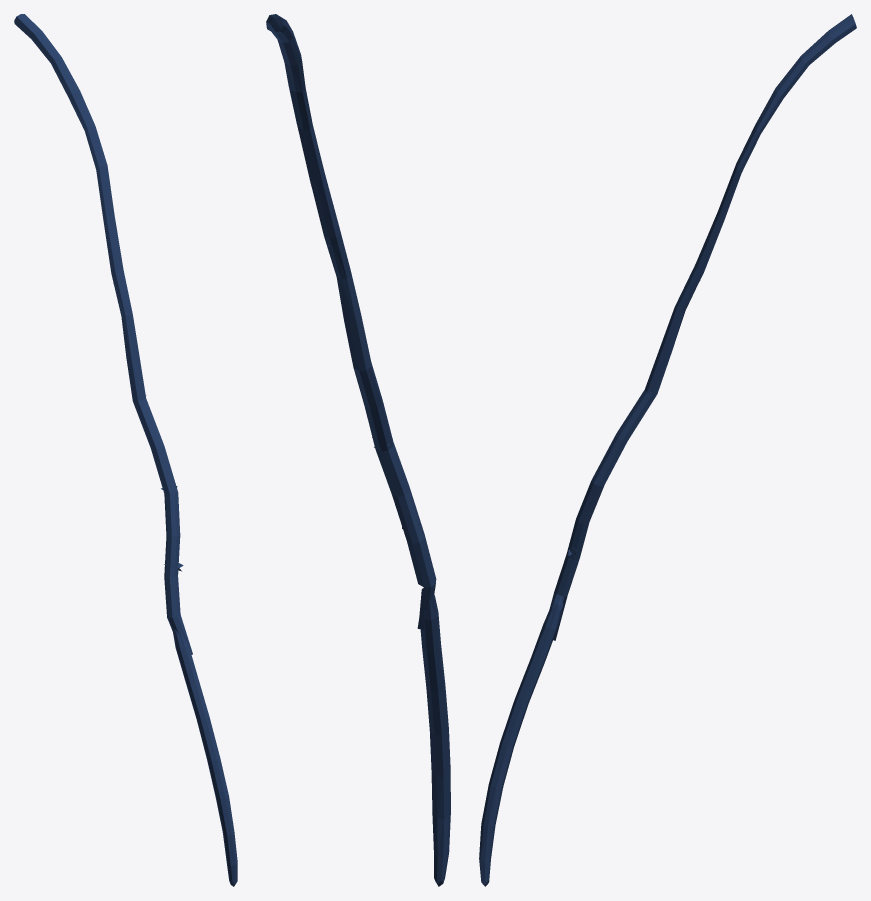
The model's file is Vena Torácica Interna_2.FBX.
The picture shows the model from 3 angles, left to right: view 1: azimuth 30°, elevation 25°; view 2: azimuth 150°, elevation 25°; view 3: azimuth 270°, elevation 25°; orthographic projection. The views are drawn at different scales.
Parts seen in each view (by area): view 1: CS_Veins; view 2: CS_Veins; view 3: CS_Veins.
Part boxes in pixels (x1=…): CS_Veins: x1=14, y1=14, x2=237, y2=886; CS_Veins: x1=266, y1=14, x2=450, y2=886; CS_Veins: x1=479, y1=14, x2=856, y2=886.
Size of the model in its own units: 59.27 by 767 by 310.
